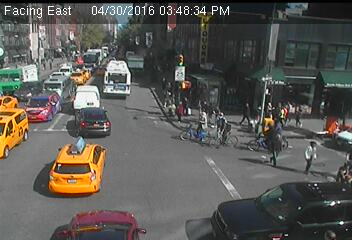neg: (182, 107, 216, 152), (206, 111, 237, 152), (1, 112, 32, 153), (278, 192, 303, 225), (121, 44, 137, 65)
pos: (297, 139, 324, 176), (238, 100, 258, 128), (289, 102, 309, 128), (171, 98, 190, 124)
